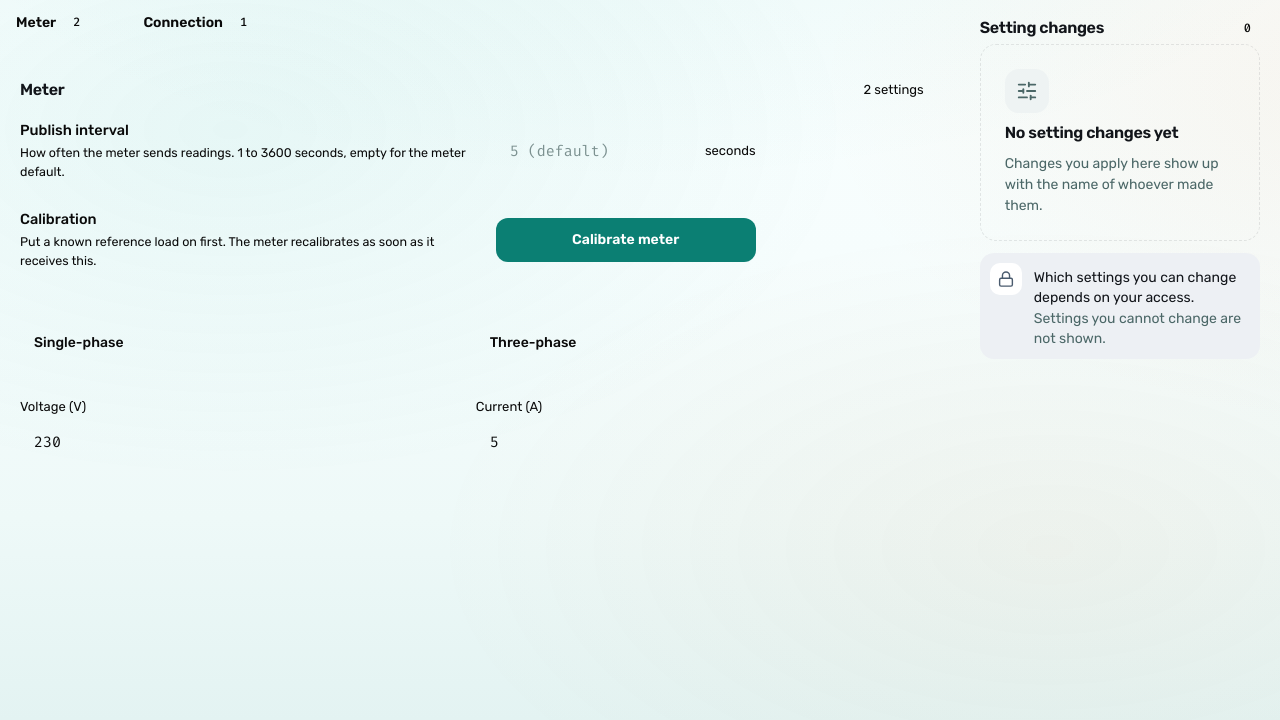
Test: W3 Wi-Fi failure shows a plain error and keeps the input
Click the tab "Connection 1".
click(208, 22)  # box [127,0,288,44]
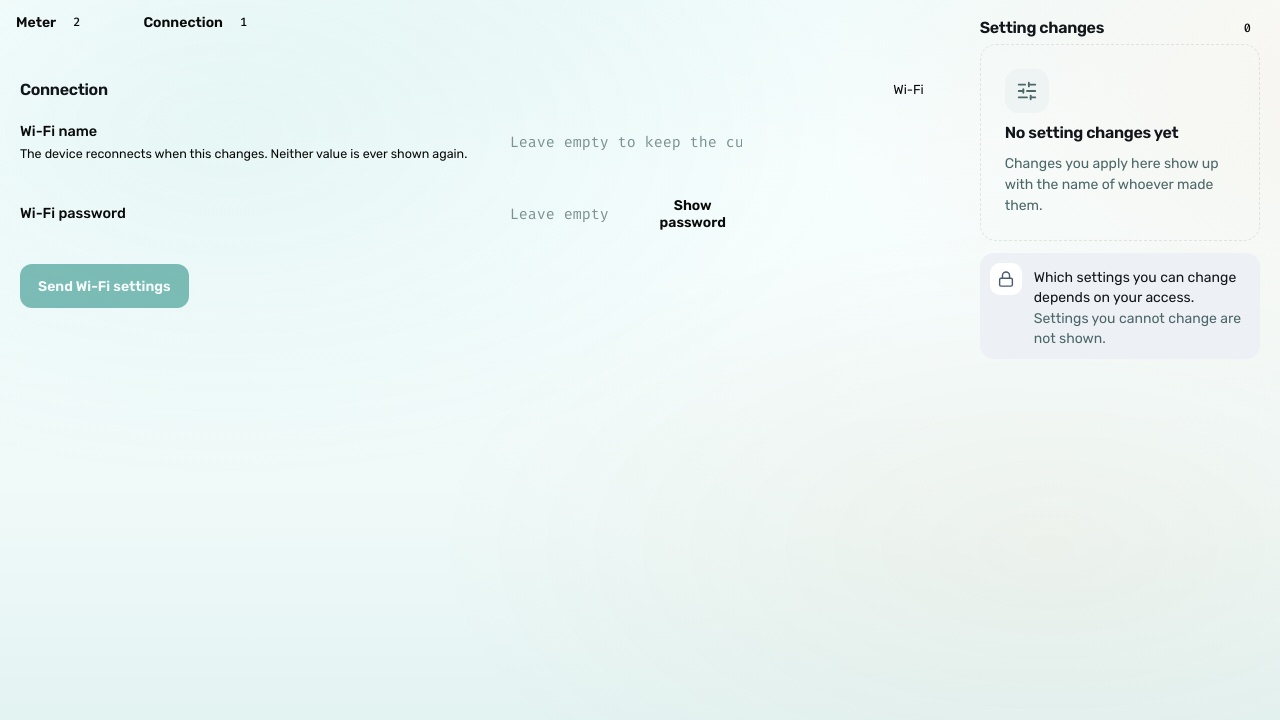
Type "abc" into the password field named "Wi-Fi password".
click(559, 214); type("abc")  # box [496,192,622,236]
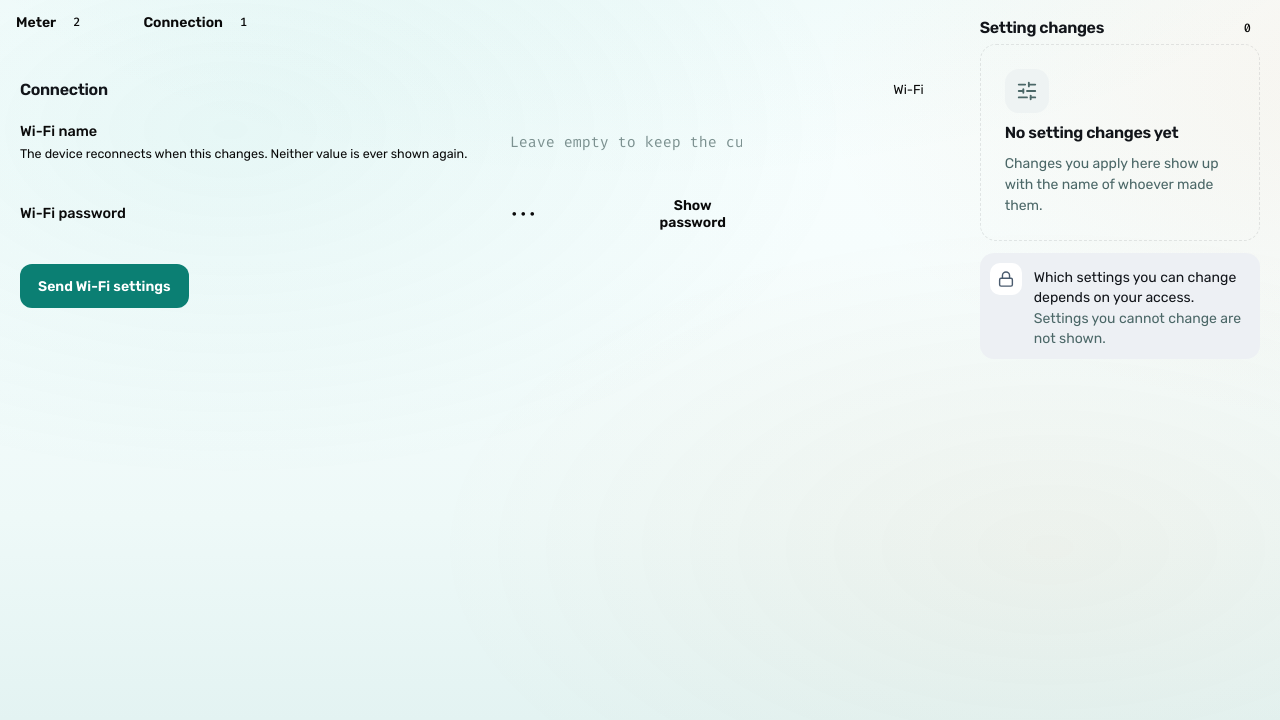
Click the button "Send Wi-Fi settings".
click(104, 286)  # box [20,264,189,308]
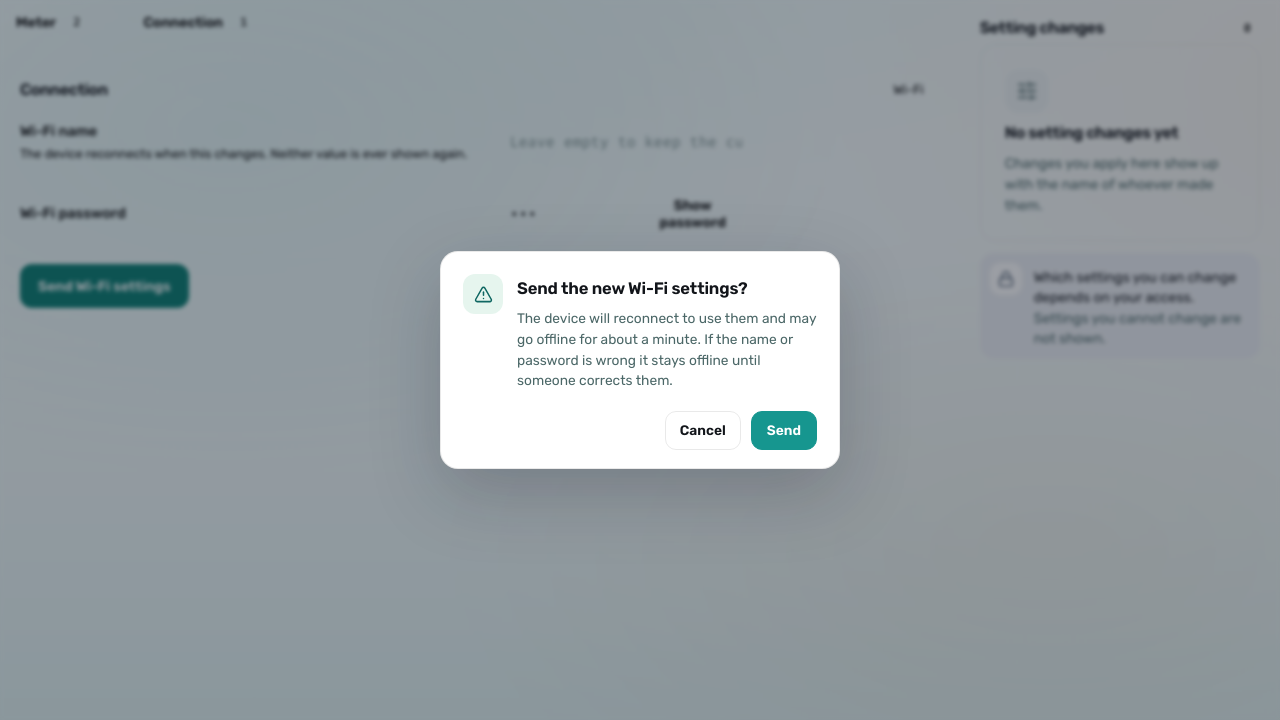
Click the button "Send".
click(784, 430)  # box [751,411,817,450]
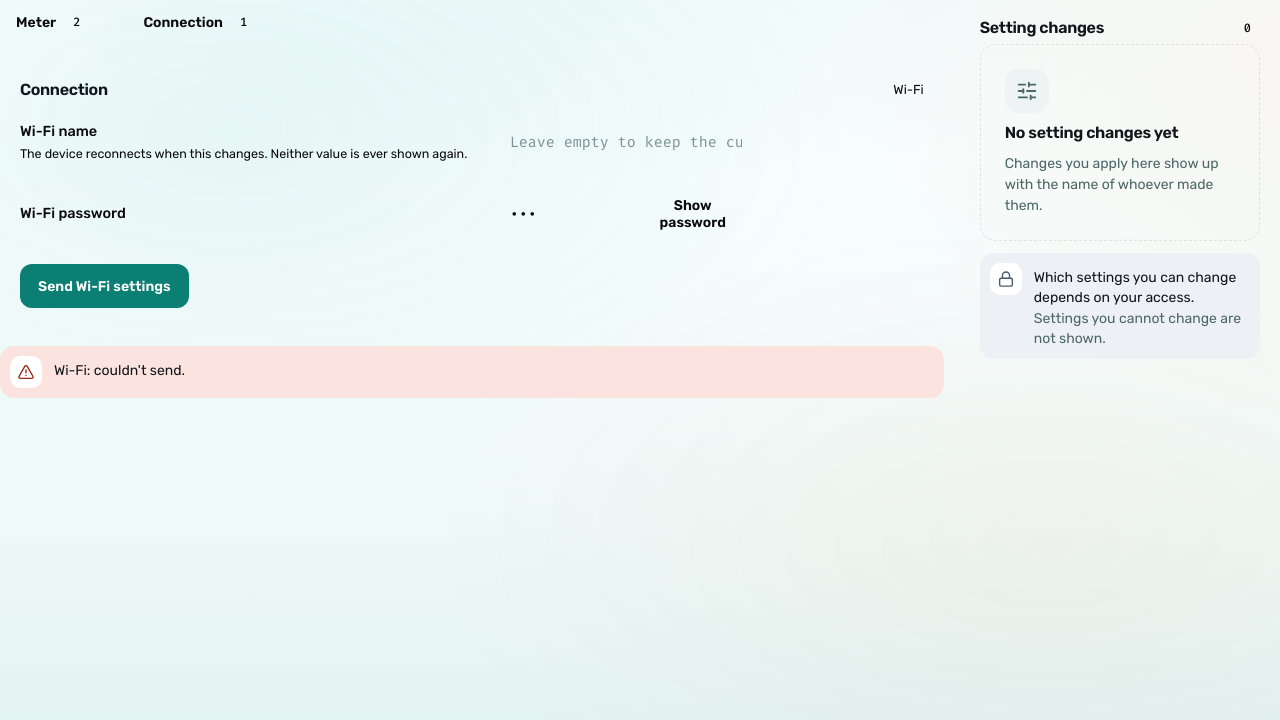
Check: the text "Wi-Fi: couldn't send." is shown, box [54,362,185,379]
